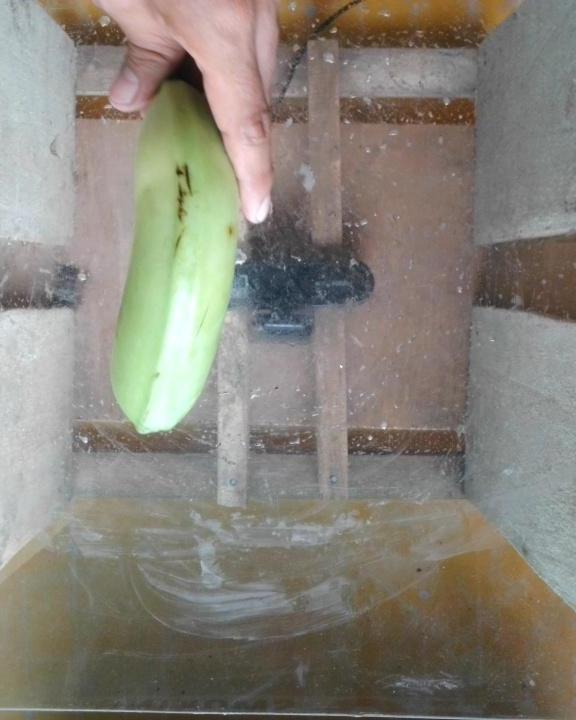CLASS B: (112, 71, 248, 455)
Class A: (163, 146, 206, 197)
